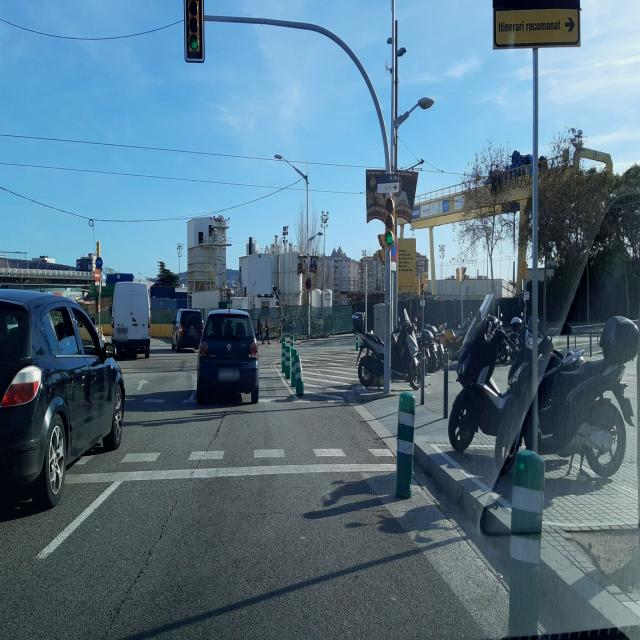bike: (447, 292, 636, 496), (356, 325, 423, 392)
car: (0, 286, 125, 512), (196, 308, 260, 404), (171, 307, 204, 352)
